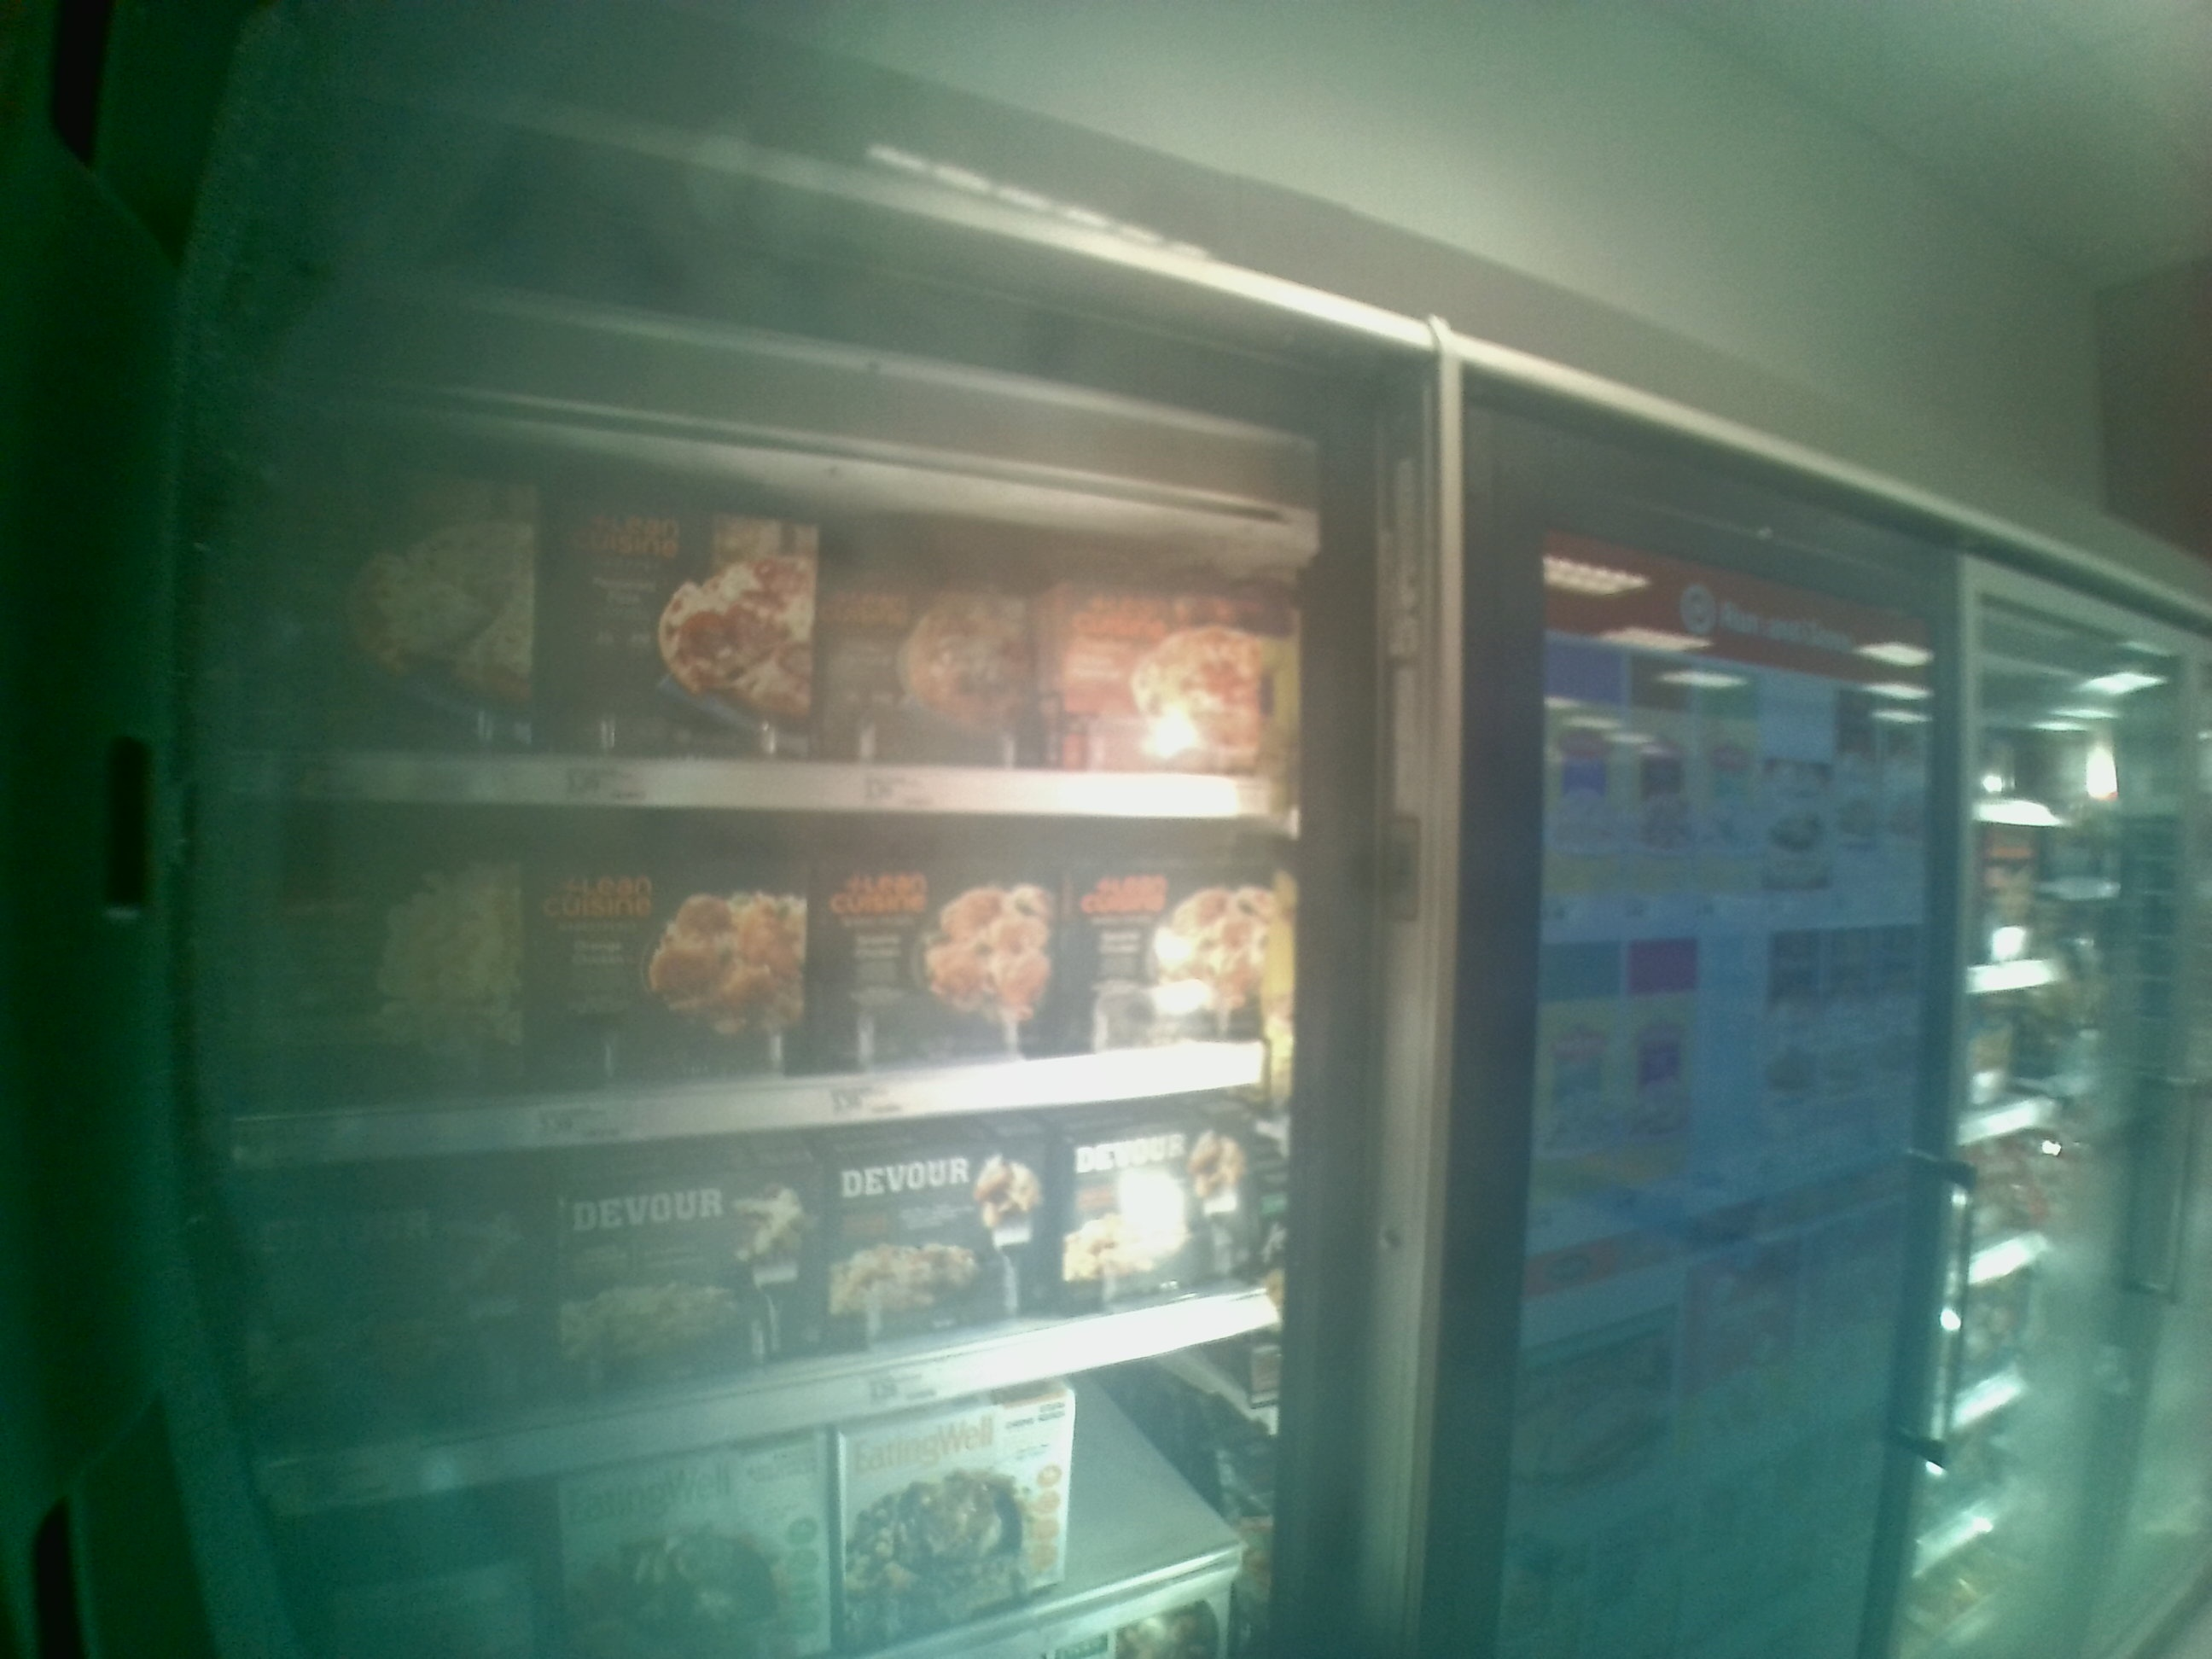pizza: (265, 481, 536, 753), (235, 840, 514, 1089), (523, 840, 808, 1075), (557, 502, 813, 749), (246, 1194, 521, 1422), (540, 1159, 810, 1387), (834, 1392, 1080, 1636), (542, 1438, 824, 1649), (1035, 577, 1296, 779), (829, 1134, 1045, 1356), (813, 857, 1062, 1044), (822, 582, 1033, 767), (1075, 854, 1291, 1030), (1064, 1131, 1264, 1312)
